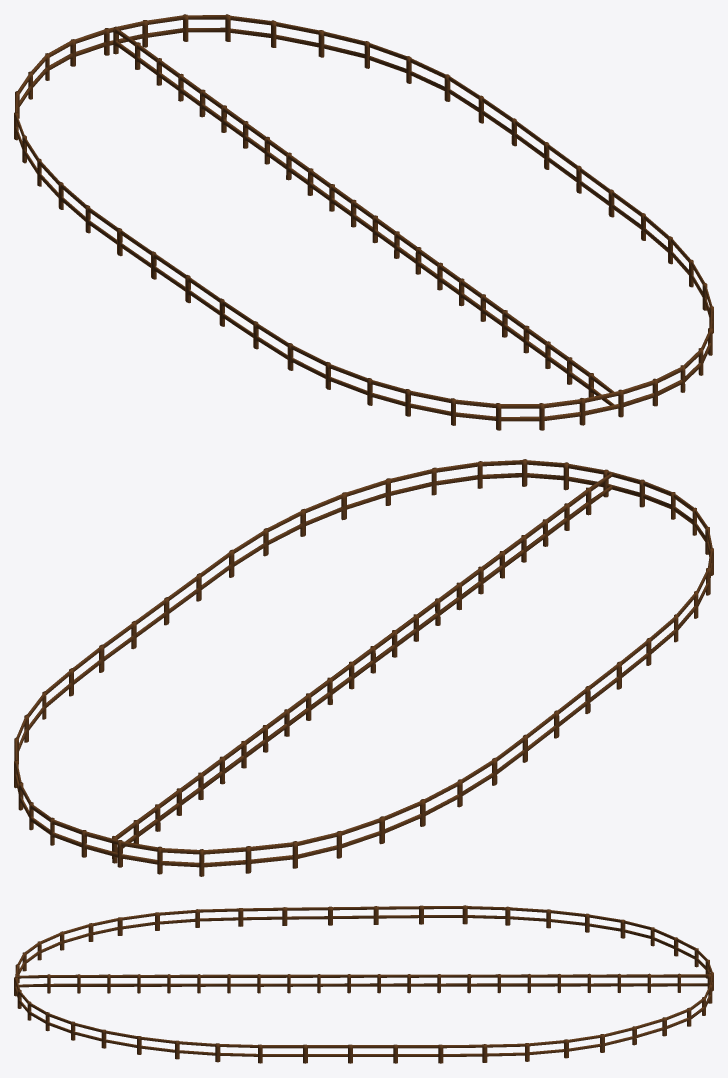
The model's file is Hekje.fbx.
The picture shows the model from 3 angles, top to bottom: view 1: azimuth 30°, elevation 25°; view 2: azimuth 150°, elevation 25°; view 3: azimuth 270°, elevation 25°; orthographic projection. The views are drawn at different scales.
Visible parts, largest first — view 1: Cylinder.181; view 2: Cylinder.181; view 3: Cylinder.181.
Part boxes in pixels (left/top/right/bottom): Cylinder.181: left=14, top=14, right=713, bottom=430; Cylinder.181: left=14, top=459, right=713, bottom=876; Cylinder.181: left=14, top=905, right=713, bottom=1063.
Size of the model in its own units: 14.55 by 0.8939 by 30.66.
